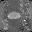people: (8, 11, 21, 20)
